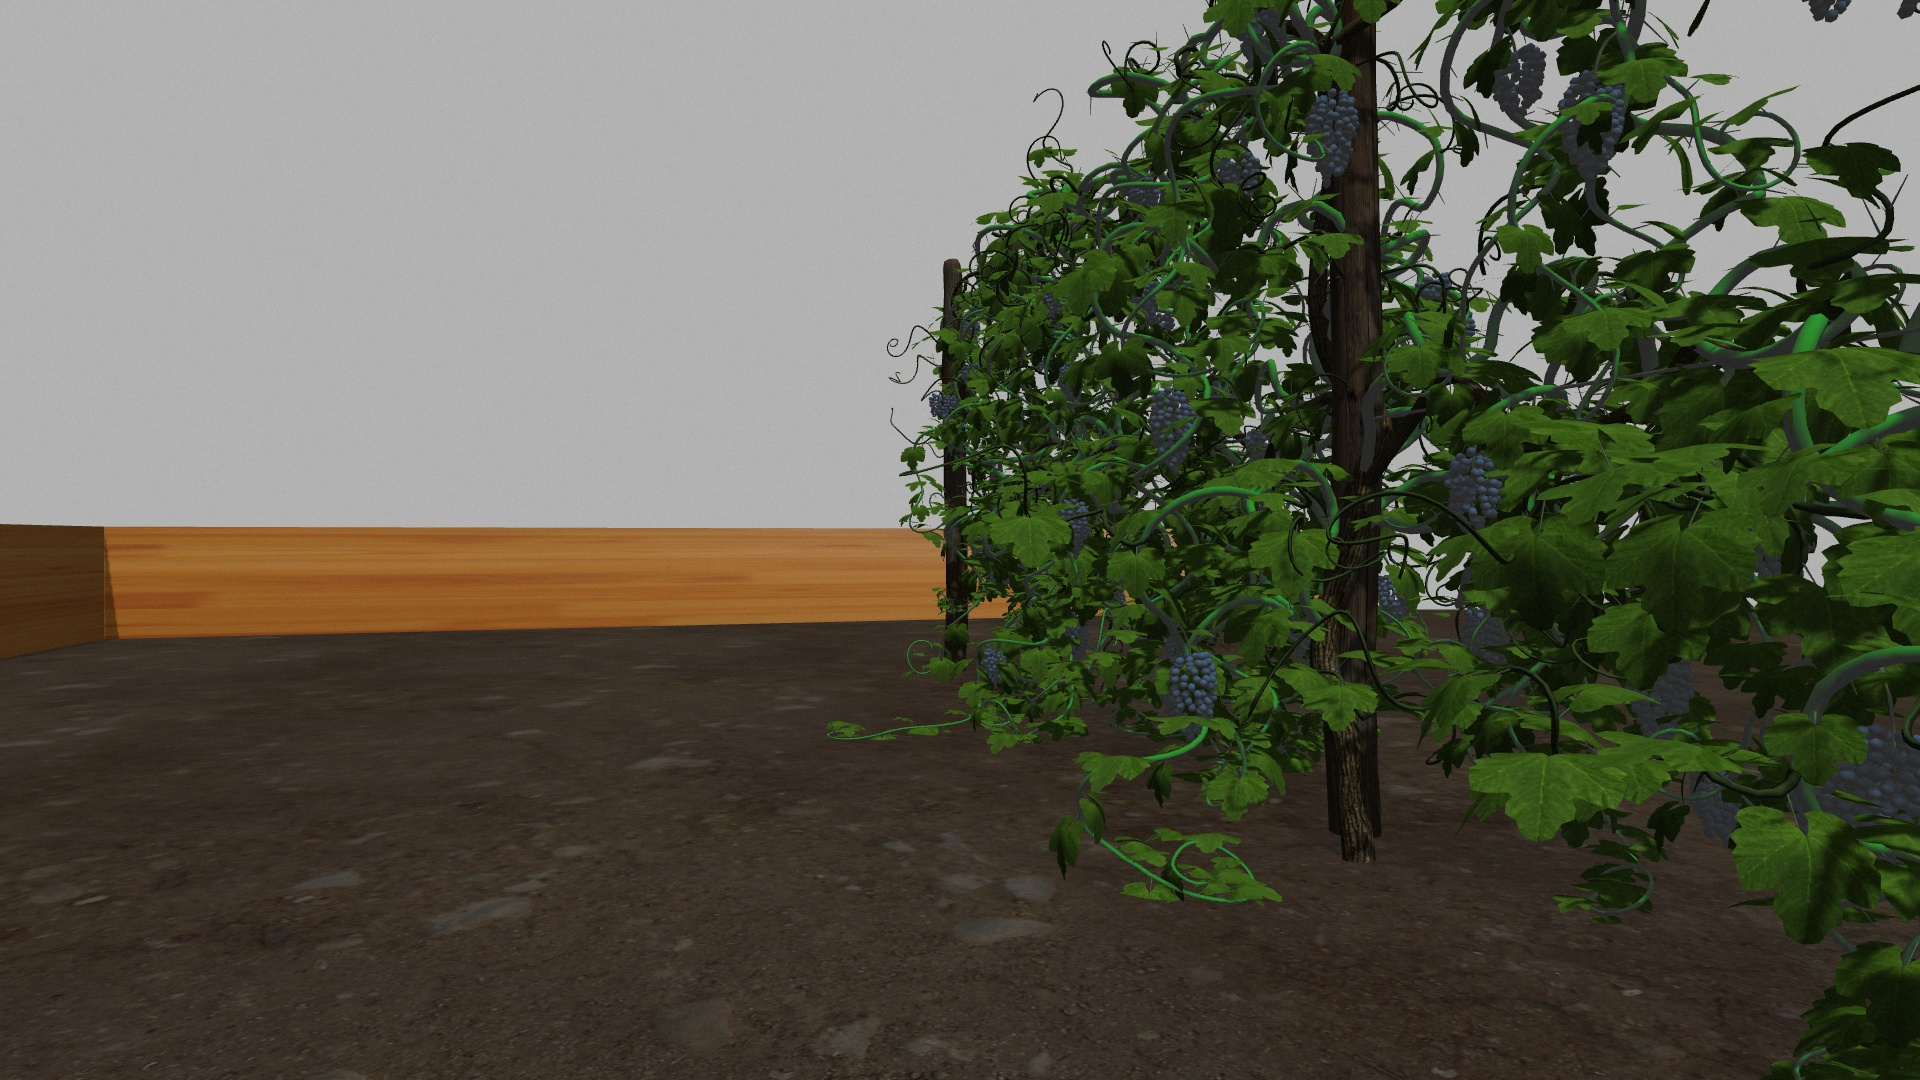grape: (1818, 715, 1916, 828), (1557, 70, 1625, 183), (1445, 447, 1505, 529), (1305, 88, 1360, 178), (1692, 758, 1746, 840), (1149, 386, 1197, 473), (1494, 42, 1545, 117), (1168, 654, 1217, 720), (1650, 665, 1696, 727), (1458, 607, 1509, 662), (1216, 146, 1263, 196), (1062, 497, 1093, 558), (1375, 576, 1414, 620), (982, 644, 1007, 686), (1065, 622, 1091, 659), (940, 396, 957, 417), (928, 393, 940, 417)
